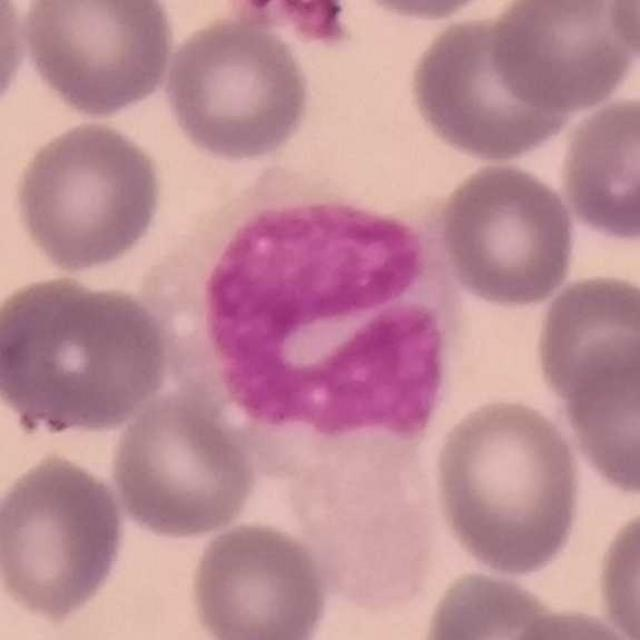mono: (142, 154, 476, 596)
